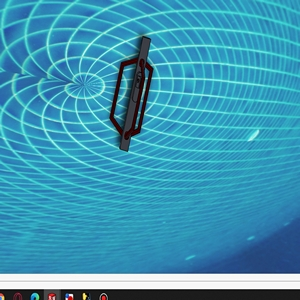submarine: (112, 37, 153, 153)
